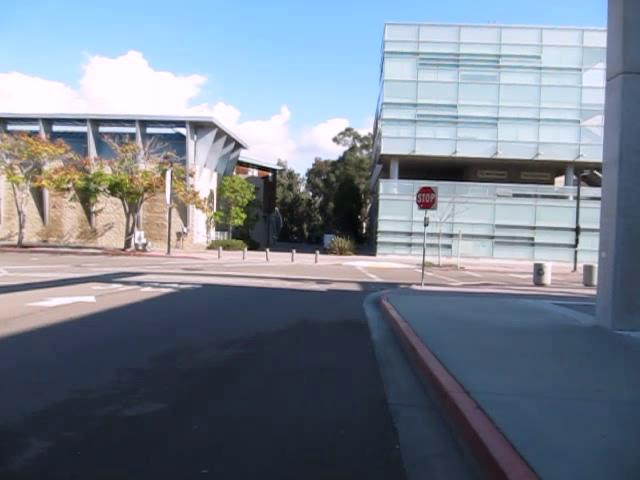stop: (415, 185, 436, 210)
